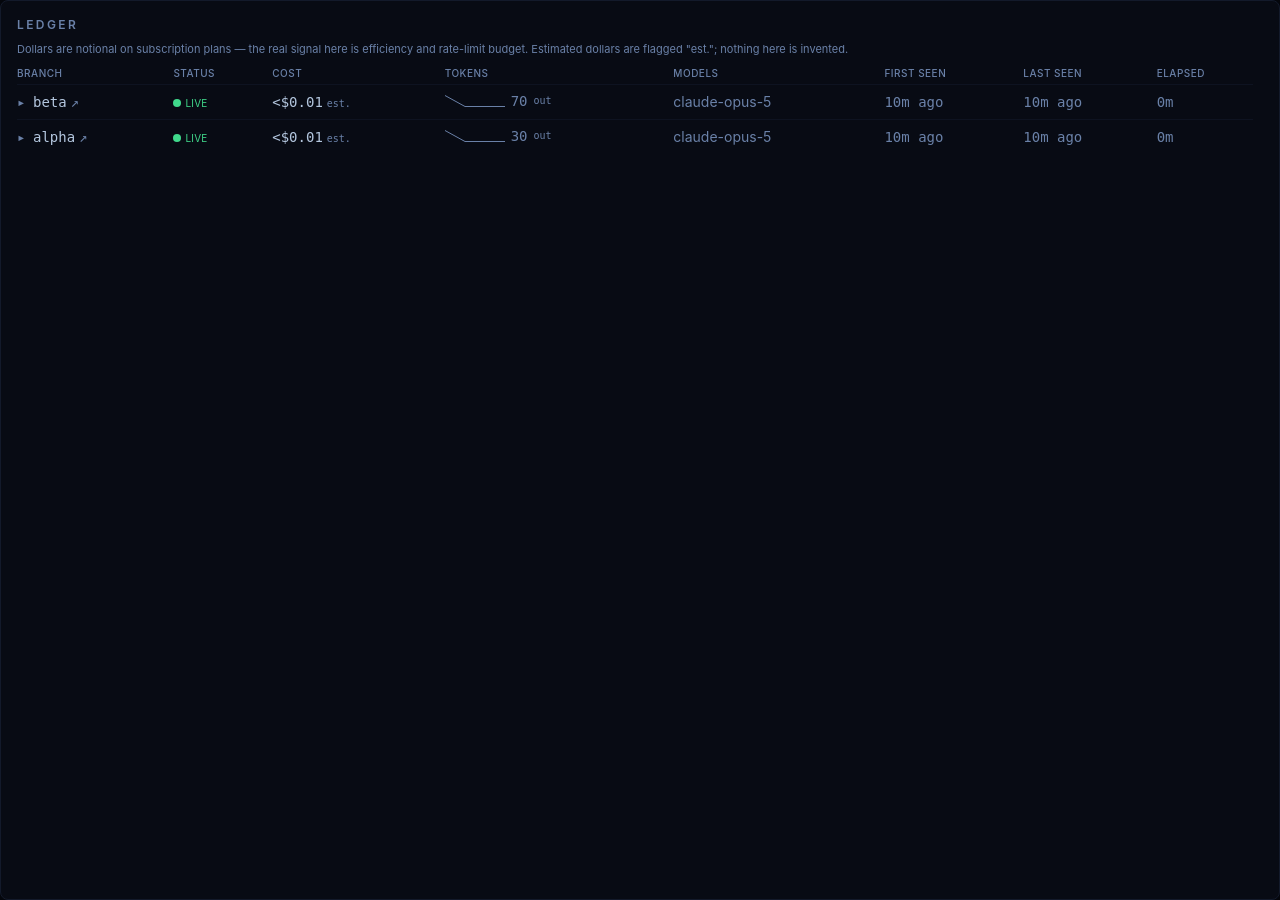
it: LedgerPanel › does not leak expand/collapse state between lanes
Note: Expanding alpha must not open beta's sub-rows.
Click the button with test id "ledger-thread-toggle" next to "alpha": (23, 137) 17,127 -> 29,147
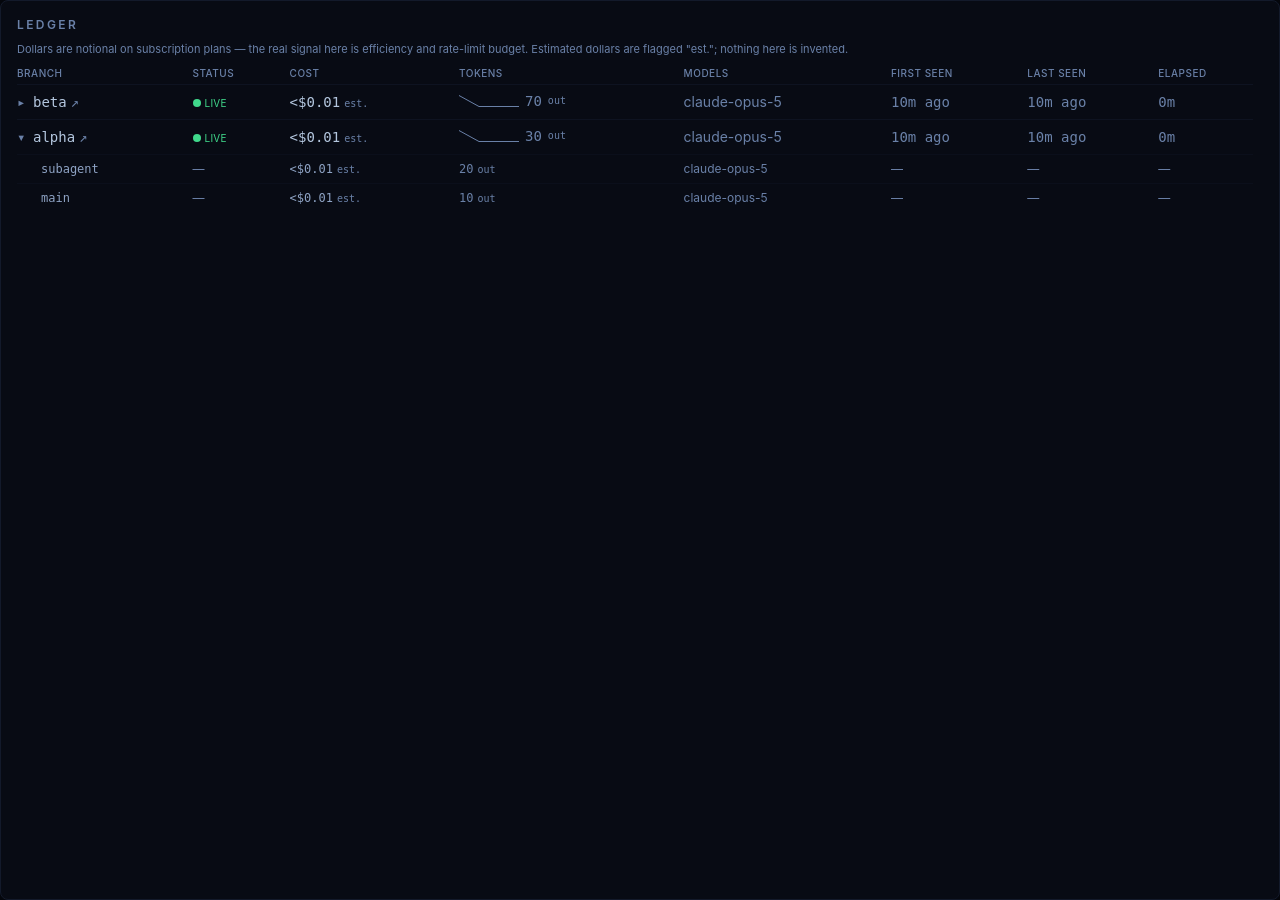
Check: the number of rows with test id "ledger-subrow" is 2, box 17,154 -> 1253,183; 17,183 -> 1253,212
Note: Expanding beta afterwards leaves alpha's own state untouched.
Click the button with test id "ledger-thread-toggle" showing "▸": (23, 102) 17,92 -> 29,112
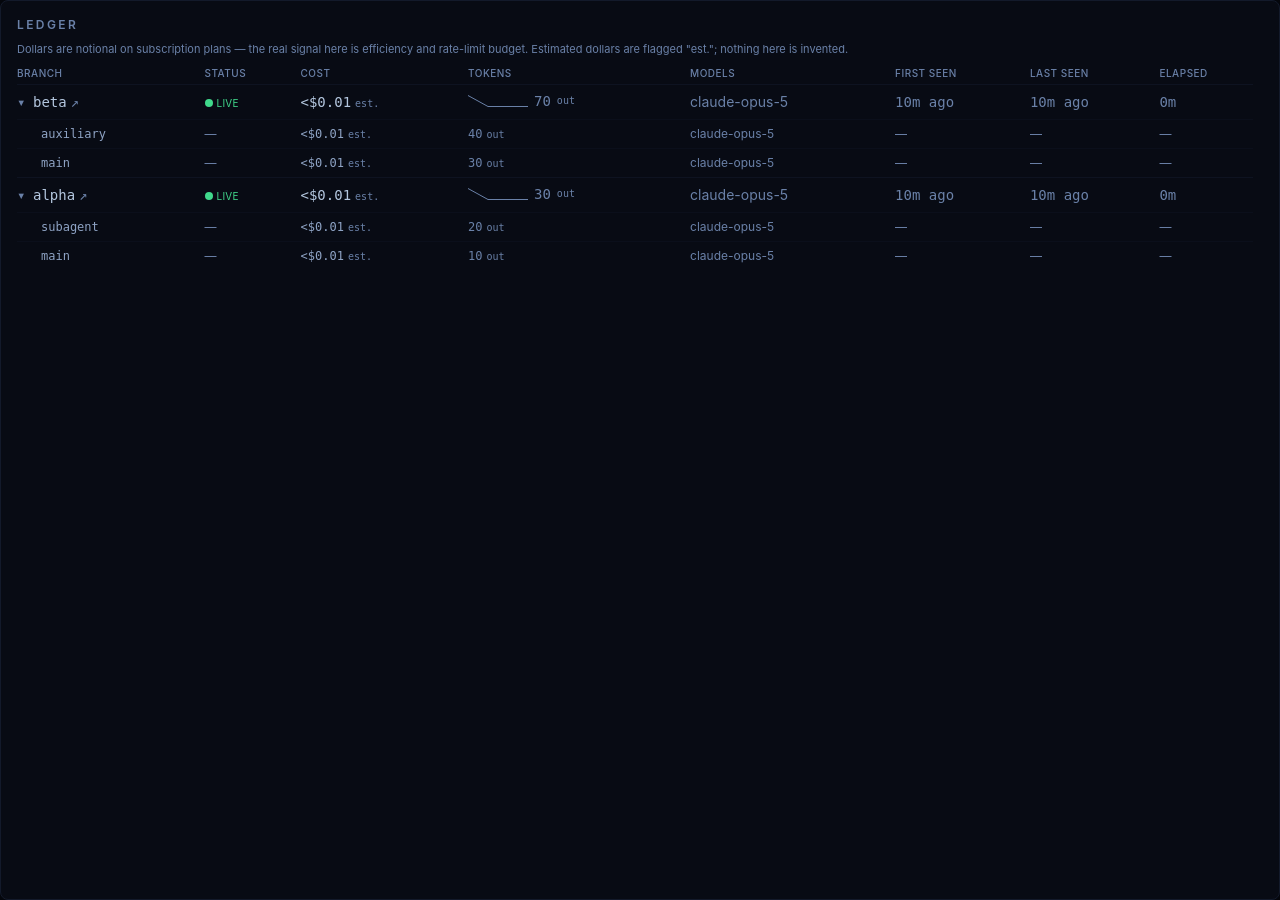
Check: the button with test id "ledger-thread-toggle" next to "alpha" is expanded
Check: the number of rows with test id "ledger-subrow" is 4, box 17,119 -> 1253,148; 17,148 -> 1253,177; 17,212 -> 1253,241; 17,241 -> 1253,270
Note: Collapsing alpha leaves beta expanded — its rows, not alpha's stale ones.
Click the button with test id "ledger-thread-toggle" next to "alpha": (23, 195) 17,185 -> 29,205
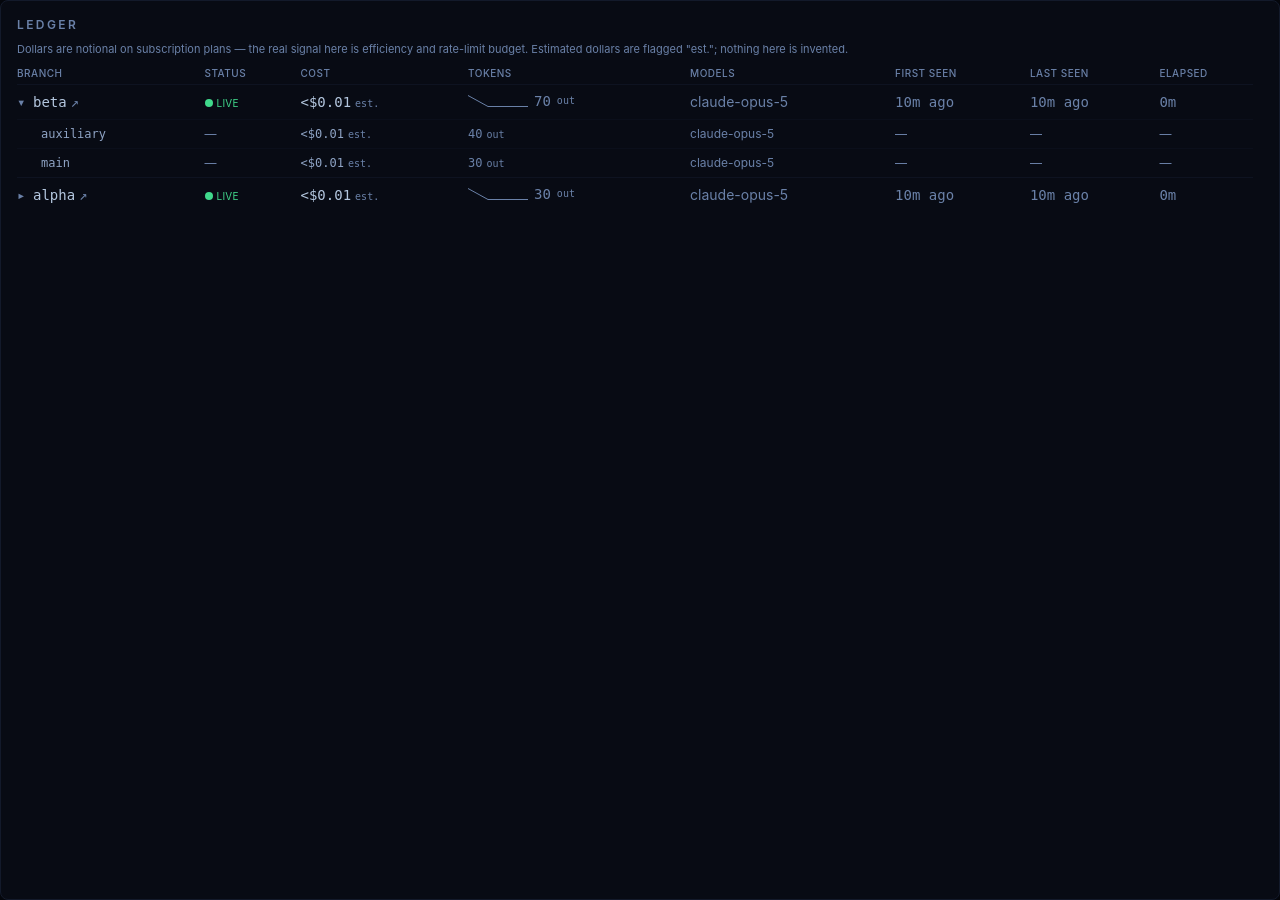
Check: the button with test id "ledger-thread-toggle" is expanded, box 17,92 -> 29,112
Check: the number of rows with test id "ledger-subrow" is 2, box 17,119 -> 1253,148; 17,148 -> 1253,177
